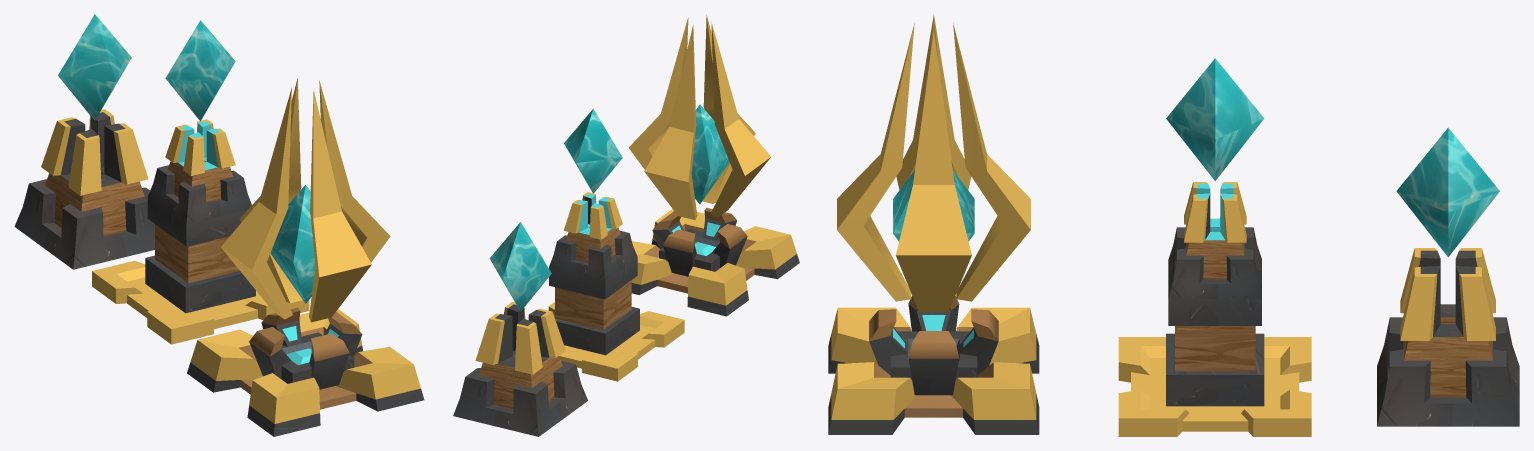
Rendered from tru 1-2-3 defend.fbx.
3 views of the same model, side by side, from view 1: azimuth 30°, elevation 25°; view 2: azimuth 150°, elevation 25°; view 3: azimuth 270°, elevation 25° (orthographic). The views are drawn at different scales.
Visible parts, largest first — view 1: tru_3, tru_2, tru_1; view 2: tru_3, tru_2, tru_1; view 3: tru_3, tru_2, tru_1.
Part boxes in pixels (left/top/right/bottom): tru_3: left=187, top=78, right=424, bottom=436; tru_2: left=92, top=20, right=309, bottom=344; tru_1: left=14, top=14, right=154, bottom=269; tru_3: left=628, top=15, right=799, bottom=316; tru_2: left=548, top=109, right=684, bottom=381; tru_1: left=453, top=222, right=588, bottom=436; tru_3: left=828, top=14, right=1039, bottom=434; tru_2: left=1118, top=58, right=1311, bottom=436; tru_1: left=1377, top=127, right=1519, bottom=426.
Size of the model in its own units: 3.81 by 7.23 by 12.13.
